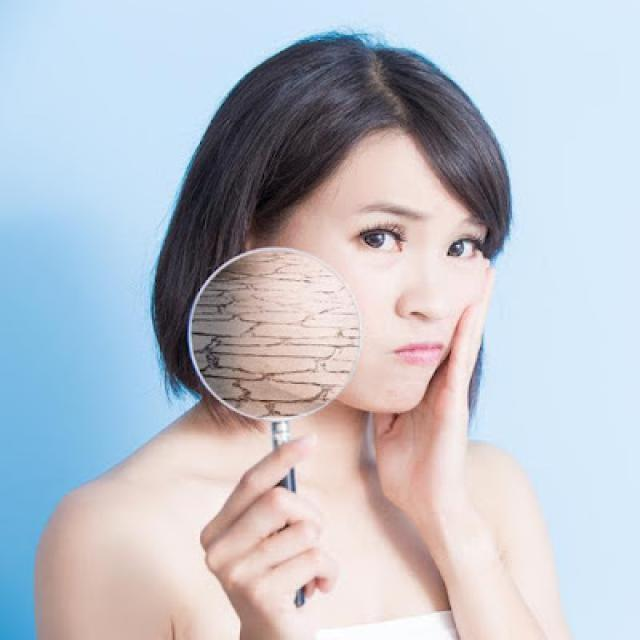dry: (188, 250, 359, 416)
